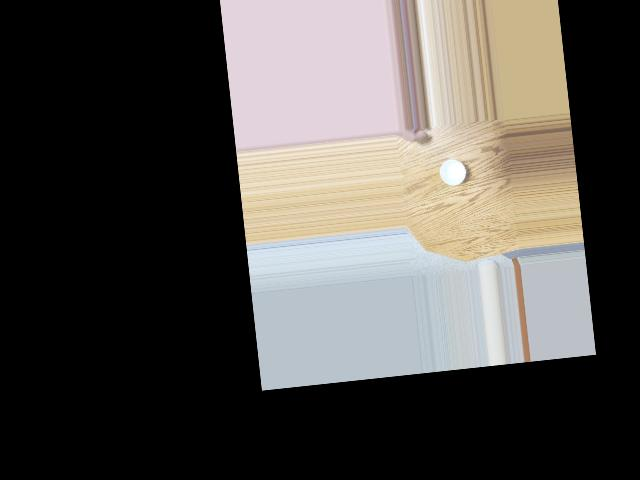cotage: (435, 156, 466, 187)
